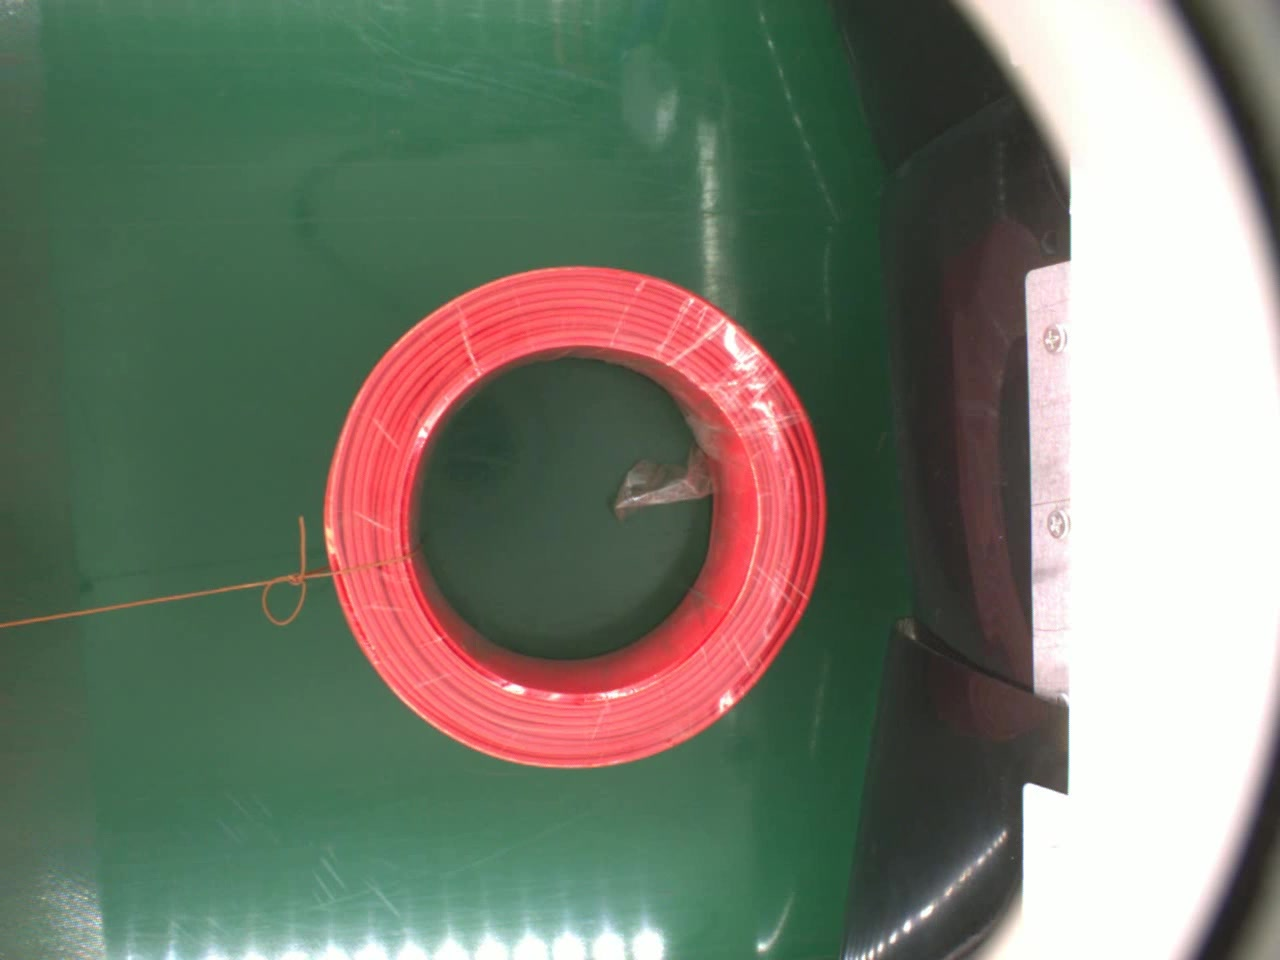red: (323, 261, 828, 773)
